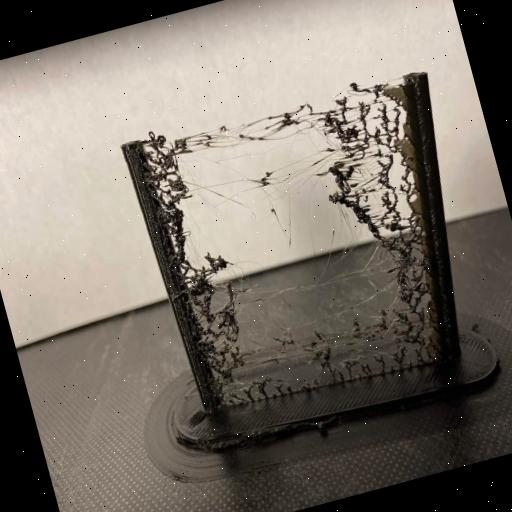stringing: (140, 72, 474, 418)
